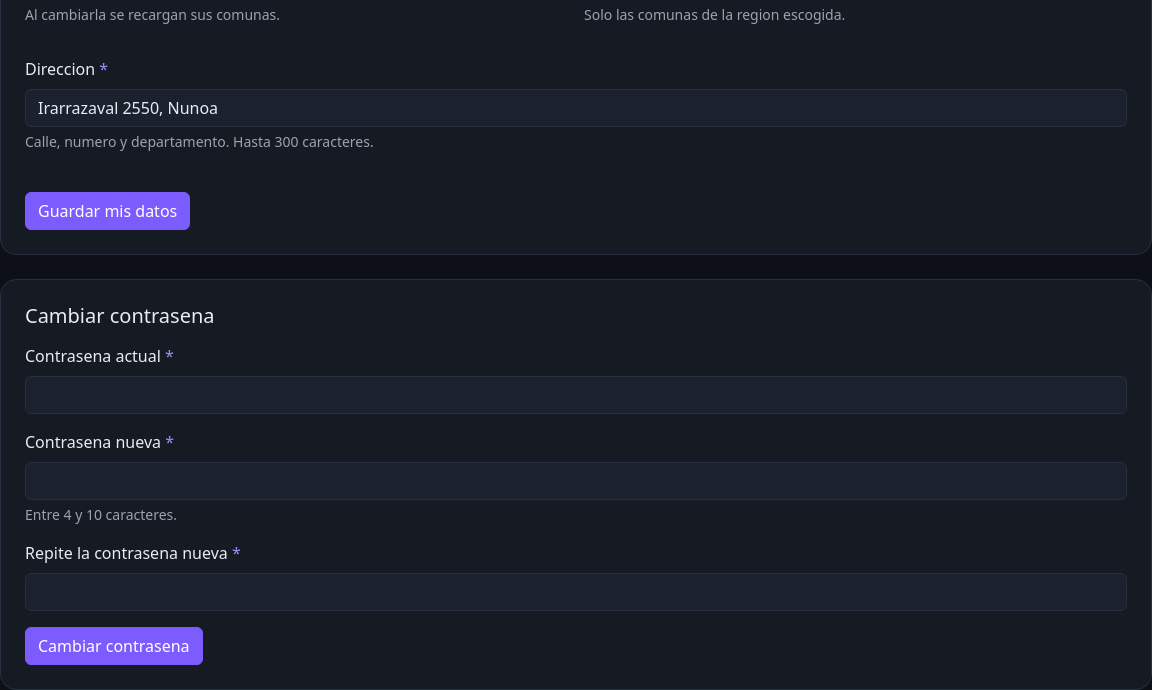
it: Perfil › cambio de contrasena › con los datos correctos cambia la contrasena y limpia el formulario (RF-23 CA4)
(page scrolled)
Type "cliente123" into the password field labelled "Contrasena actual *".
click(576, 395); type("cliente123")  # box [25, 376, 1127, 414]
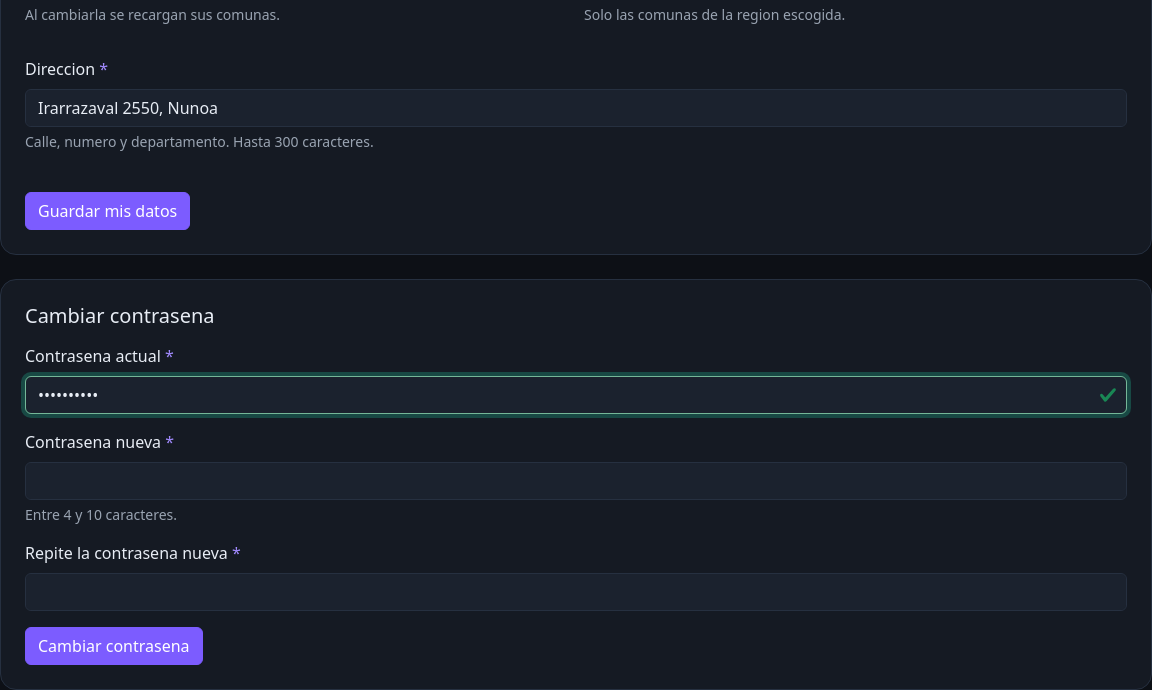
Type "nueva1234" into the password field labelled "Contrasena nueva *".
click(576, 481); type("nueva1234")  # box [25, 462, 1127, 500]
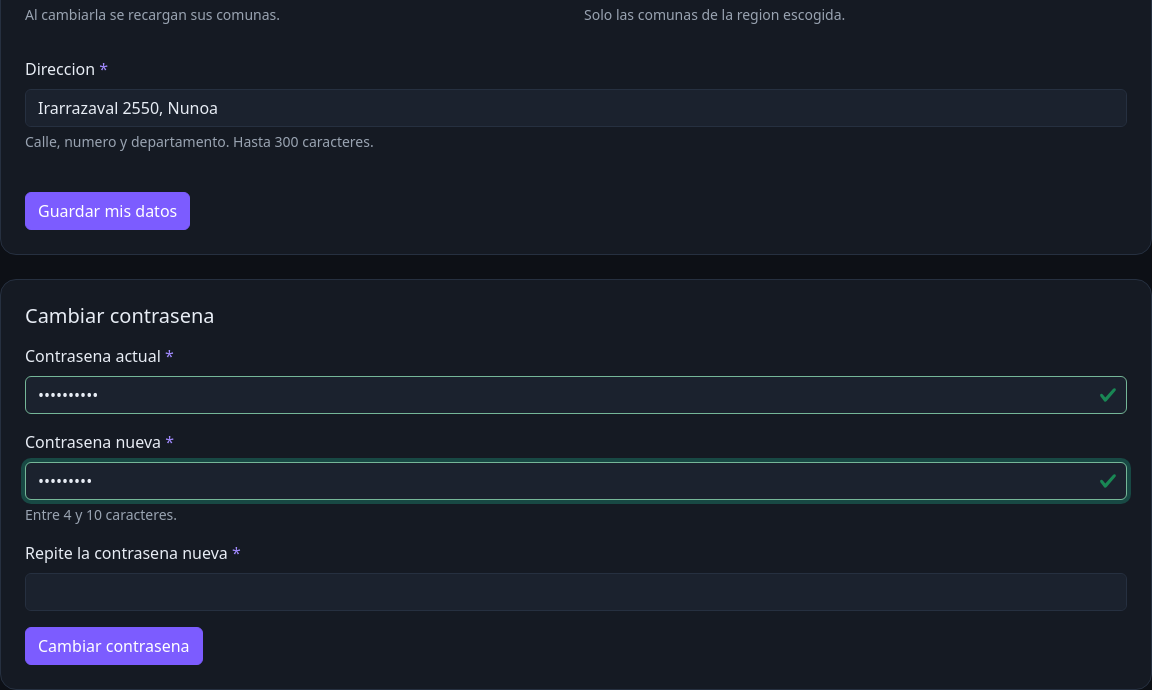
Type "nueva1234" into the password field labelled "Repite la contrasena nueva *".
click(576, 592); type("nueva1234")  # box [25, 573, 1127, 611]
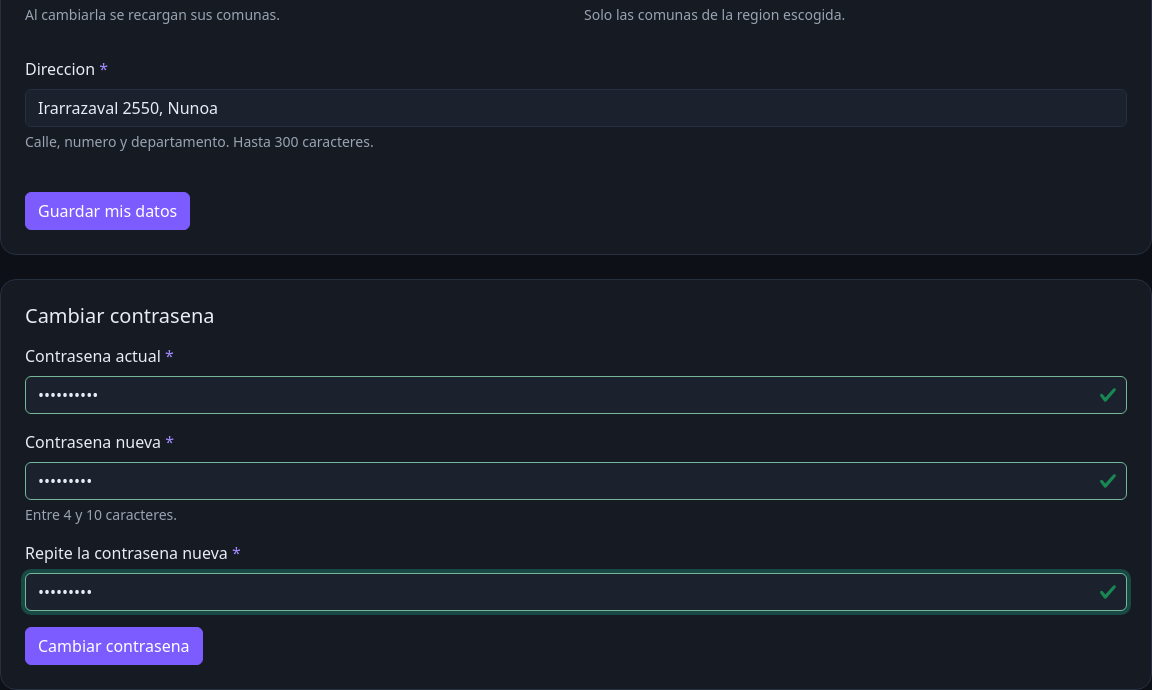
Click the button "Cambiar contrasena".
click(114, 646)  # box [25, 627, 203, 665]
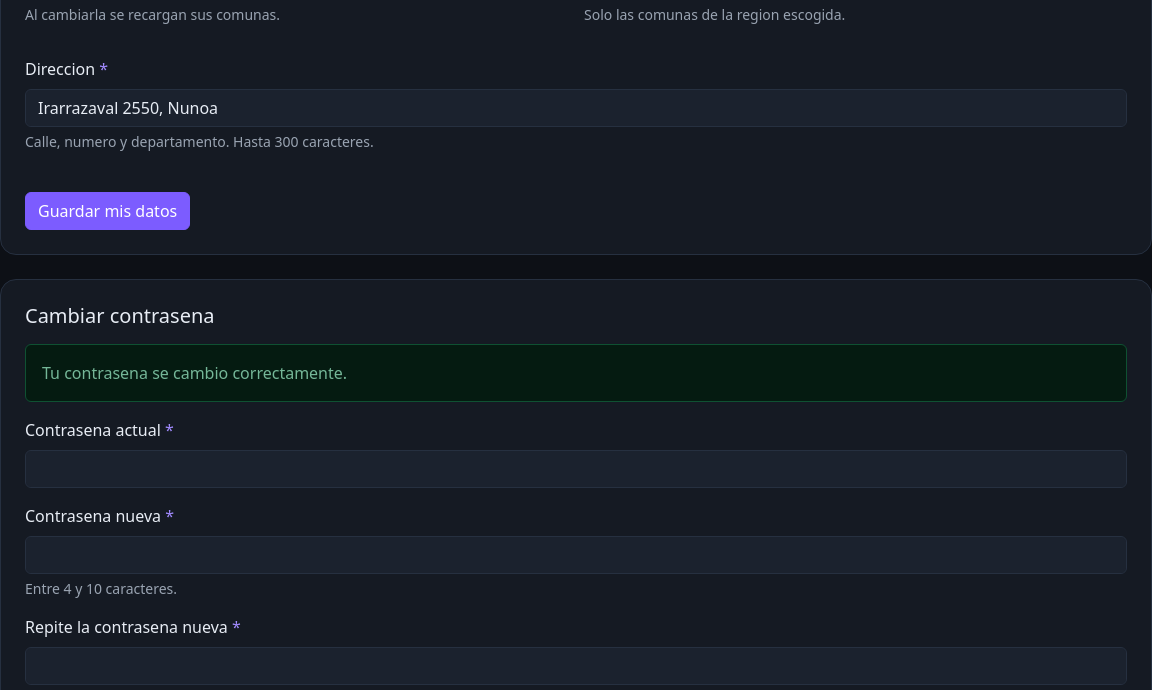
Result: the text "Tu contrasena se cambio correctamente." is shown at [25, 344, 1127, 402]
Result: the password field labelled "Contrasena actual *" is empty at [25, 450, 1127, 488]
